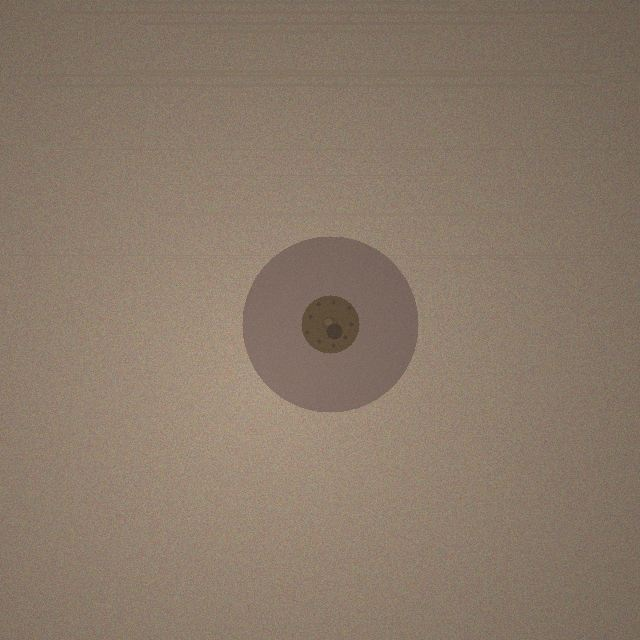cold_weld: (242, 236, 418, 412)
